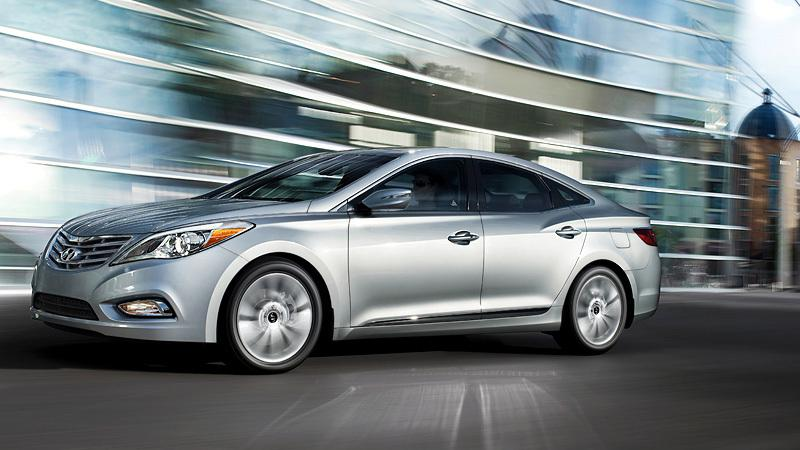Car: (11, 137, 687, 384)
